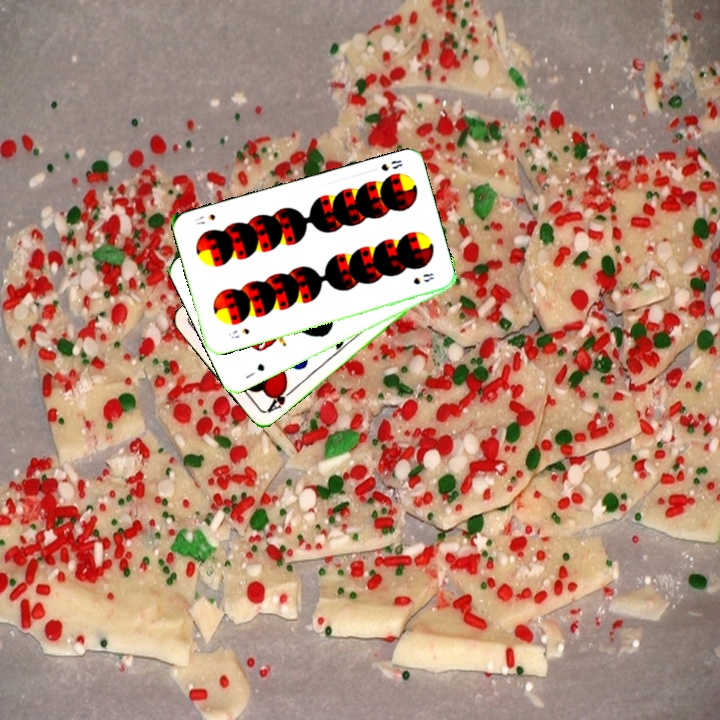GU: (241, 359, 267, 381)
HA: (263, 382, 297, 416)
S8: (224, 324, 252, 341), (377, 156, 405, 173)
